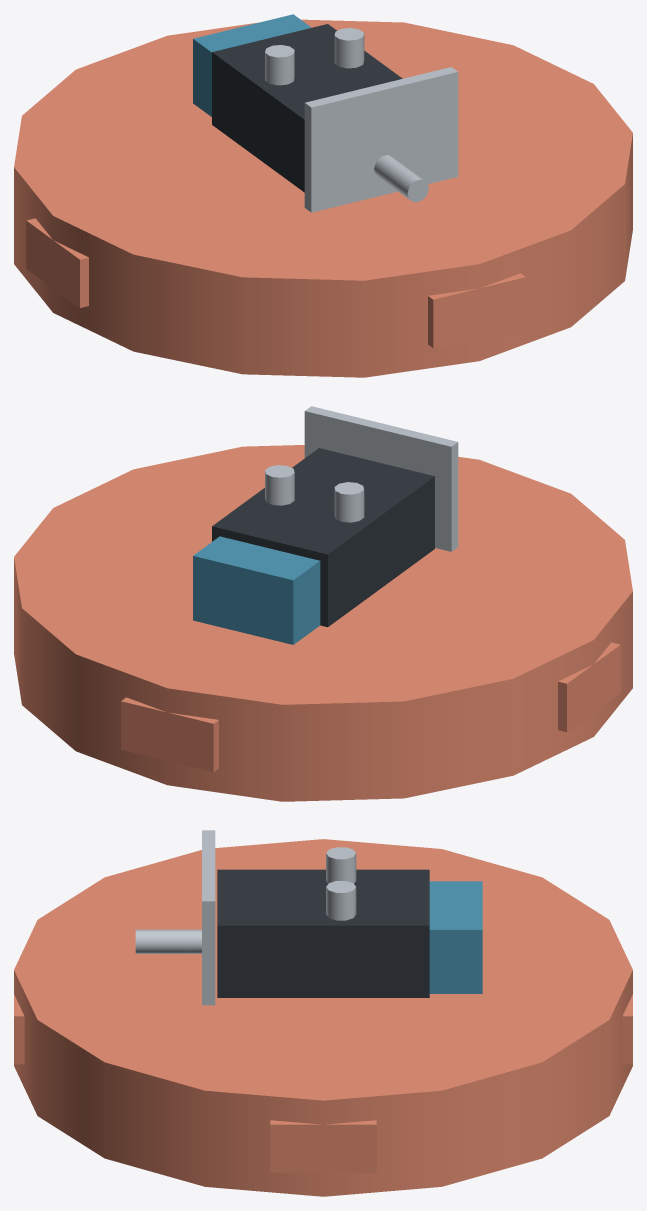
The picture shows the model from 3 angles, top to bottom: view 1: azimuth 30°, elevation 25°; view 2: azimuth 150°, elevation 25°; view 3: azimuth 270°, elevation 25°; orthographic projection.
Visible parts, largest first — view 1: visualRotor, flange, body, encoder, shaft, connector1, connector0; view 2: visualRotor, body, encoder, flange, connector0, connector1; view 3: visualRotor, body, encoder, flange, shaft, connector1, connector0.
Part boxes in pixels (<box>): visualRotor: <box>14,19,632,377</box>; flange: <box>304,67,458,212</box>; body: <box>212,24,402,192</box>; encoder: <box>193,14,311,116</box>; shaft: <box>374,155,428,202</box>; connector1: <box>334,28,364,68</box>; connector0: <box>265,45,294,85</box>; visualRotor: <box>14,445,632,801</box>; body: <box>212,448,434,627</box>; encoder: <box>193,536,320,644</box>; flange: <box>304,406,458,551</box>; connector0: <box>334,482,364,522</box>; connector1: <box>265,465,294,505</box>; visualRotor: <box>14,839,632,1196</box>; body: <box>217,869,429,997</box>; encoder: <box>429,881,482,993</box>; flange: <box>202,830,215,1005</box>; shaft: <box>135,929,201,953</box>; connector1: <box>326,881,356,920</box>; connector0: <box>326,847,356,883</box>.
Bounding box in the file's own units: 0.7 × 0.25 × 0.7.
